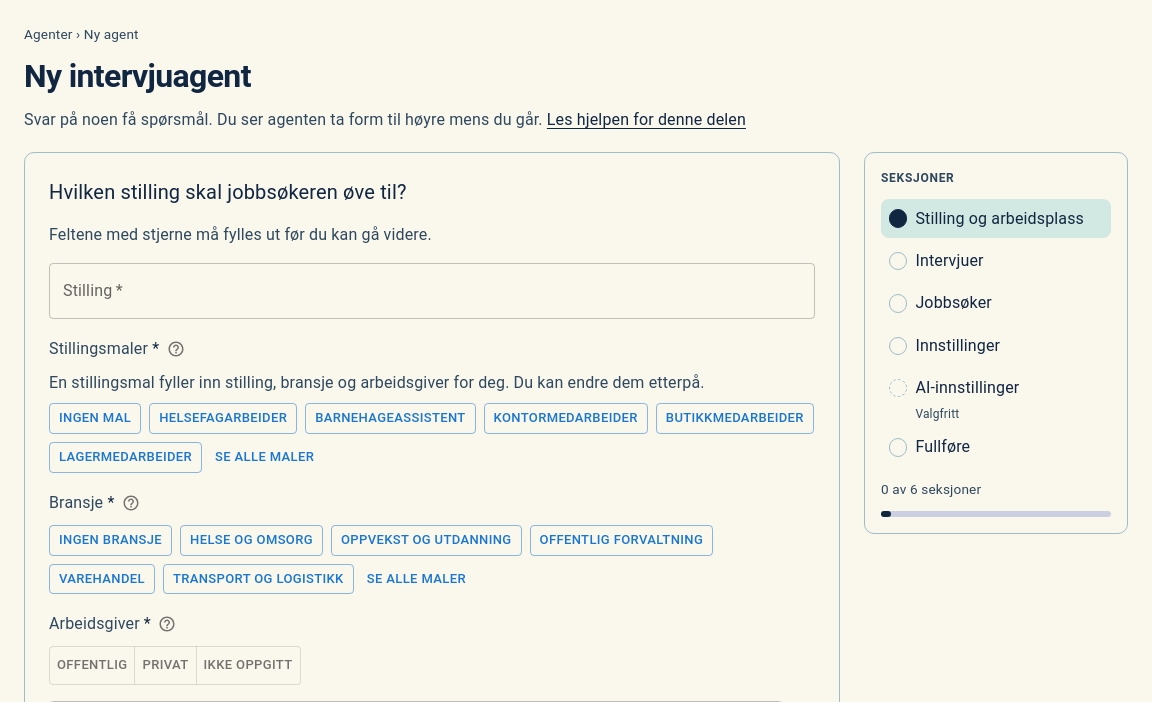
/configure › skips the type step when the agents page already chose one
Expected: the heading "Ny intervjuagent" is shown, [24,57,251,95]
Expected: the heading "Hvilken stilling skal jobbsøkeren øve til?" is shown, [49,180,406,204]
Hover over the button named "Hva betyr Stillingsmaler?" at coordinates (176, 349), box [162,335,190,363]
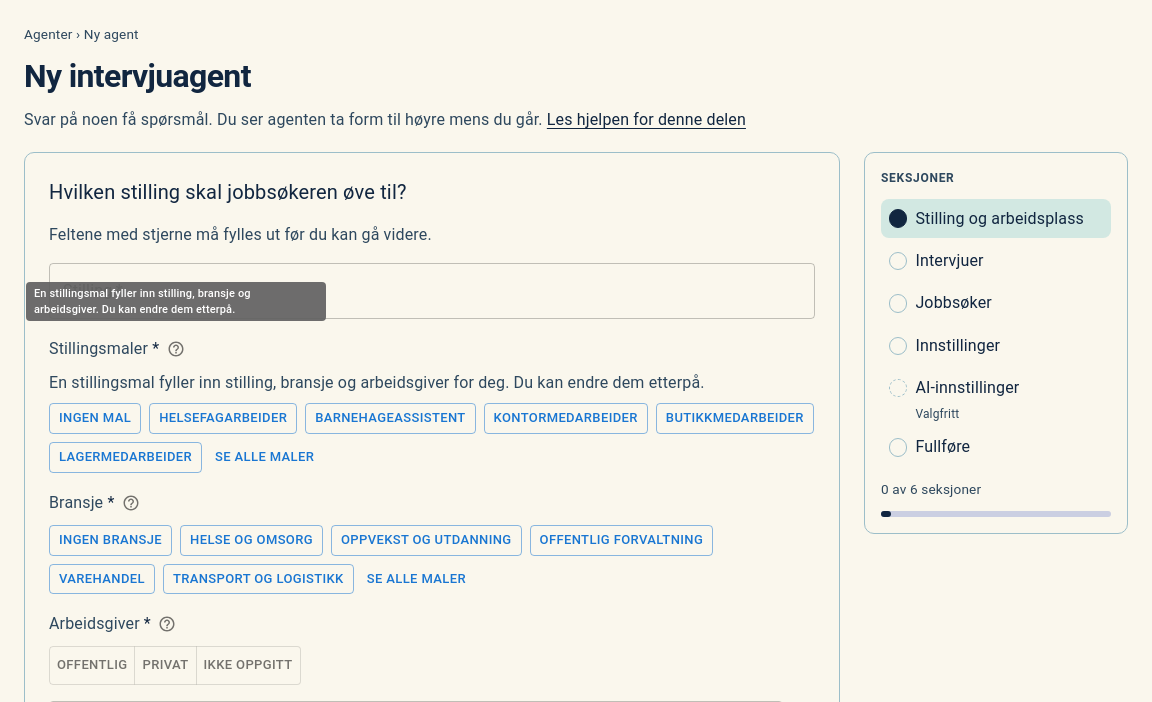
Expected: the tooltip "En stillingsmal fyller inn" is shown, [24,280,328,335]
